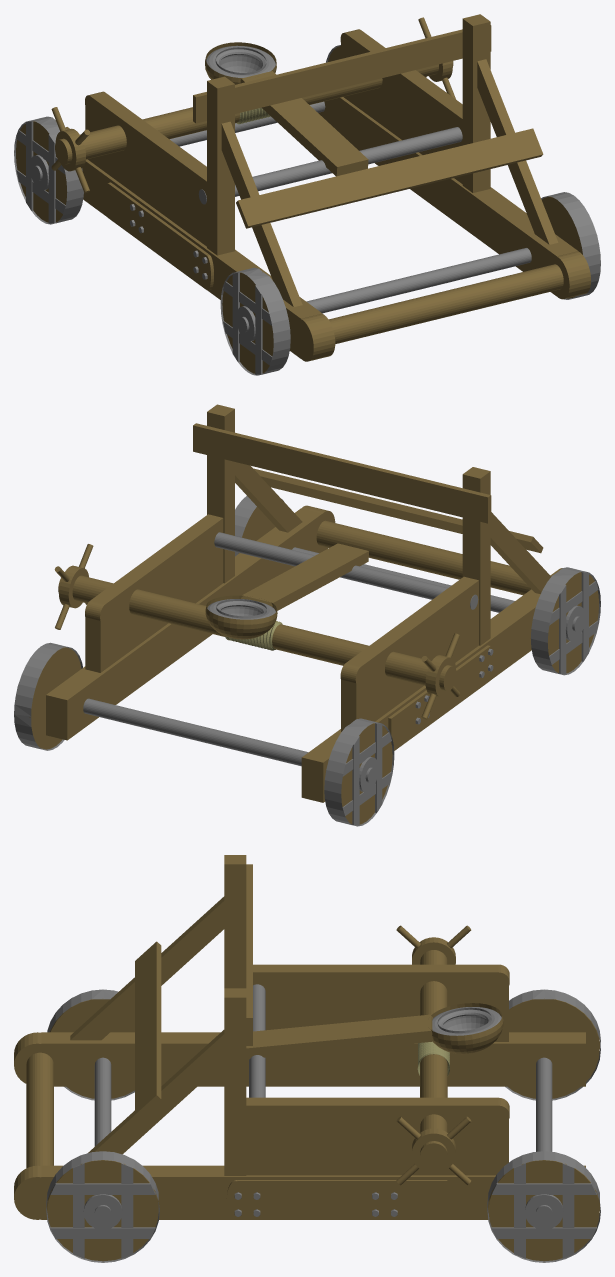
Rendered from Catapulta.dae.
3 renders of one model, top to bottom at view 1: azimuth 30°, elevation 25°; view 2: azimuth 150°, elevation 25°; view 3: azimuth 270°, elevation 25°, orthographic. The views are drawn at different scales.
Visible parts, largest first — view 1: Armazon_Superior, Base, Brazo, Rueda_1, Rota, Rueda_3, Delanteras, Rueda_2, Traseras; view 2: Armazon_Superior, Base, Rota, Brazo, Rueda_3, Rueda_1, Rueda_4, Traseras, Rueda_2, Delanteras; view 3: Armazon_Superior, Base, Rueda_4, Rueda_2, Brazo, Rota, Rueda_3, Rueda_1, Traseras, Delanteras.
Part boxes in pixels (x1,y1,x2,y2): Armazon_Superior: [85, 14, 558, 306]; Base: [65, 97, 590, 361]; Brazo: [198, 42, 462, 204]; Rueda_1: [220, 267, 290, 375]; Rota: [51, 17, 455, 193]; Rueda_3: [14, 116, 83, 224]; Delanteras: [239, 248, 531, 332]; Rueda_2: [541, 192, 600, 299]; Traseras: [32, 101, 325, 180]; Armazon_Superior: [85, 404, 551, 731]; Base: [46, 505, 562, 802]; Rota: [54, 544, 459, 719]; Brazo: [205, 532, 478, 639]; Rueda_3: [324, 718, 394, 826]; Rueda_1: [530, 567, 600, 675]; Rueda_4: [14, 642, 82, 750]; Traseras: [83, 698, 375, 782]; Rueda_2: [235, 496, 283, 556]; Delanteras: [292, 547, 582, 631]; Armazon_Superior: [70, 855, 509, 1175]; Base: [14, 1032, 585, 1219]; Rueda_4: [487, 1151, 600, 1262]; Rueda_2: [46, 1151, 159, 1262]; Brazo: [246, 984, 503, 1097]; Rota: [396, 925, 471, 1185]; Rueda_3: [505, 989, 600, 1100]; Rueda_1: [47, 989, 134, 1100]; Traseras: [536, 1057, 552, 1220]; Delanteras: [94, 1057, 111, 1220].
Bounding box in the file's own units: 4.31 × 5.32 × 2.52.
